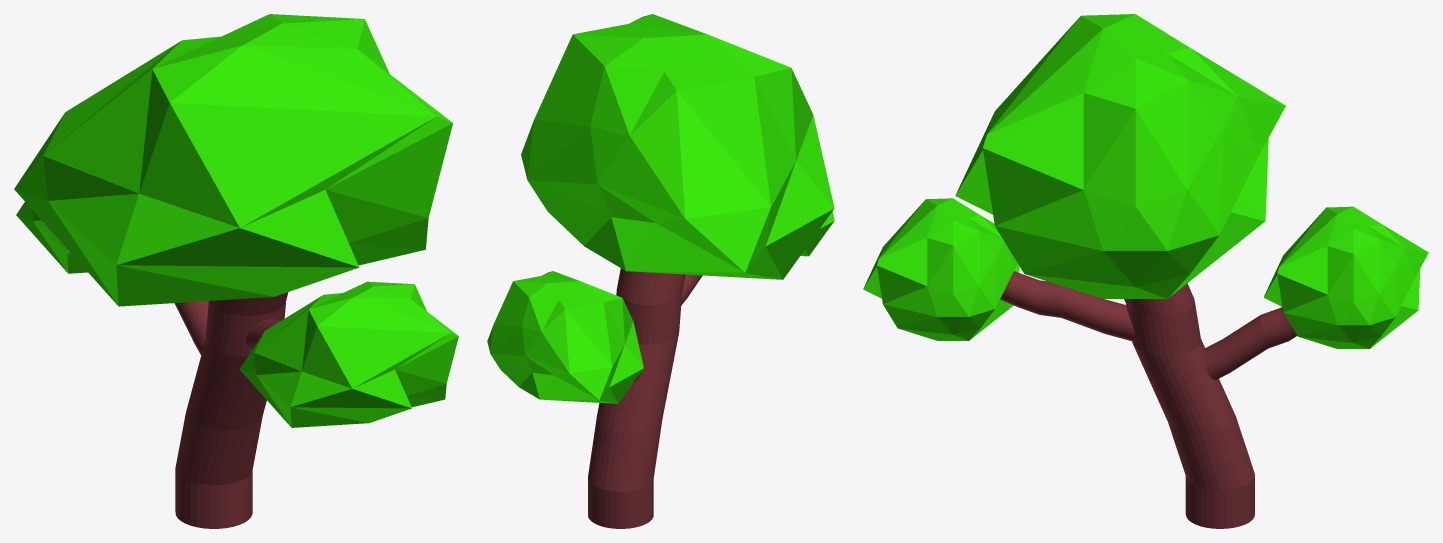
Rendered from tree.fbx.
3 renders of one model, left to right at view 1: azimuth 30°, elevation 25°; view 2: azimuth 150°, elevation 25°; view 3: azimuth 270°, elevation 25°, orthographic. The views are drawn at different scales.
Parts seen in each view (by area): view 1: Icosphere.001, Cylinder; view 2: Icosphere.001, Cylinder; view 3: Icosphere.001, Cylinder.
Boxes of the visible parts, x1,y1,x2,y2 form: Icosphere.001: [14, 14, 458, 427]; Cylinder: [174, 292, 288, 528]; Icosphere.001: [487, 14, 834, 403]; Cylinder: [588, 268, 702, 528]; Icosphere.001: [863, 14, 1428, 348]; Cylinder: [1000, 271, 1297, 528].
Size of the model in its own units: 957 by 1496 by 1633.
